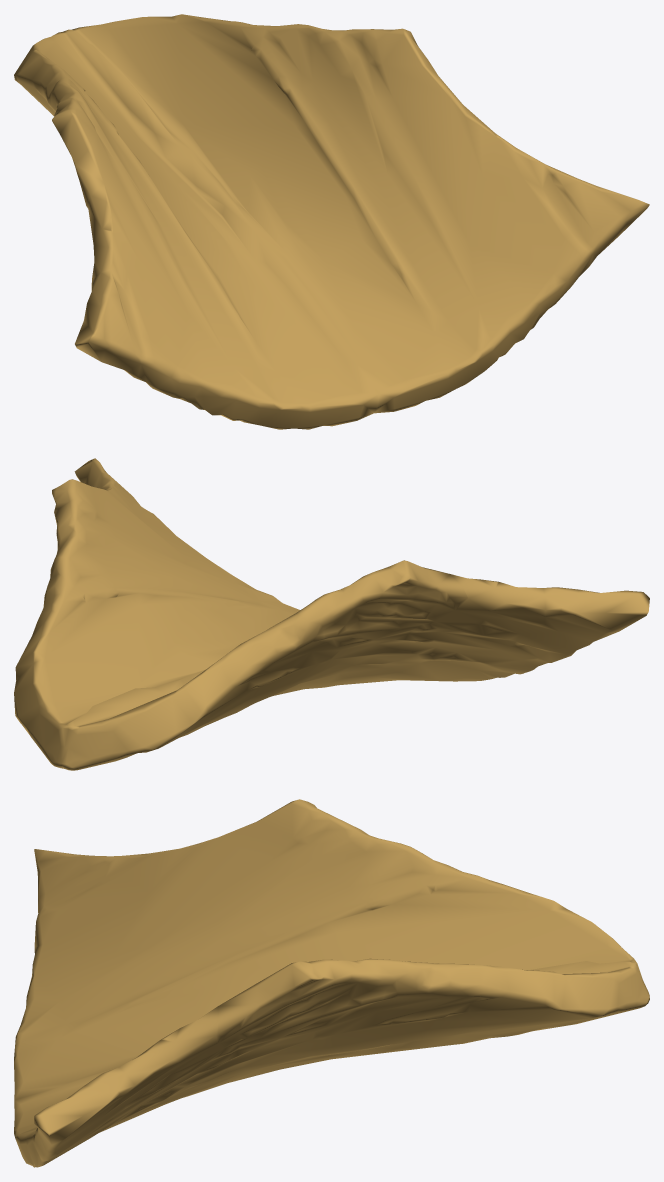
The picture shows the model from 3 angles, top to bottom: view 1: azimuth 30°, elevation 25°; view 2: azimuth 150°, elevation 25°; view 3: azimuth 270°, elevation 25°; orthographic projection.
Visible parts, largest first — view 1: 甲状舌骨正中韧带; view 2: 甲状舌骨正中韧带; view 3: 甲状舌骨正中韧带.
Boxes of the visible parts, left/top/right/bottom form: 甲状舌骨正中韧带: left=14, top=14, right=649, bottom=429; 甲状舌骨正中韧带: left=14, top=458, right=649, bottom=770; 甲状舌骨正中韧带: left=14, top=799, right=649, bottom=1167.
Size of the model in its own units: 0.027 by 0.0111 by 0.026.
